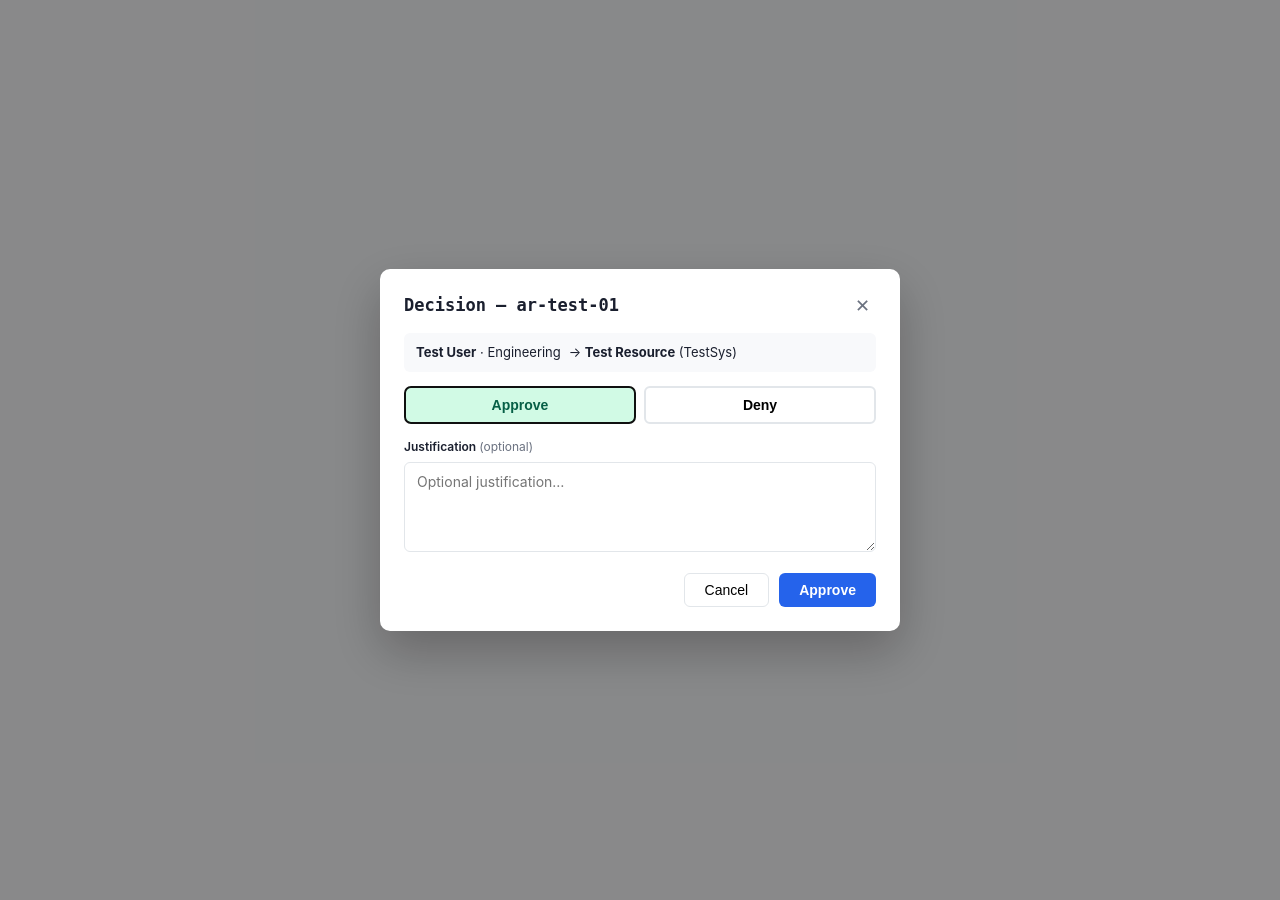
Test case: DecisionDialog — validation › blocks DENY without justification
This screenshot has width=1280, height=900.
Click the button "Deny".
click(760, 405)  # box 644,386 -> 876,424
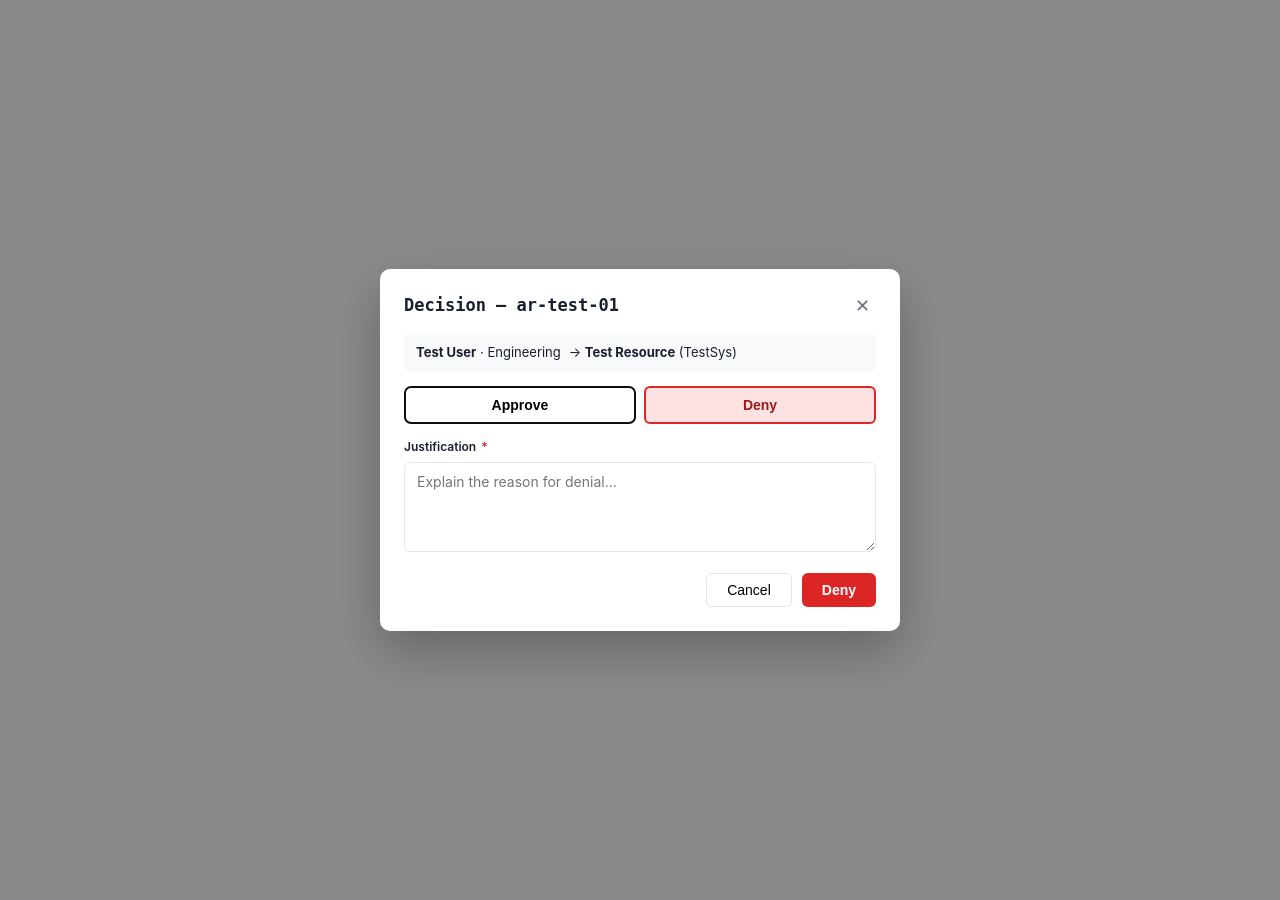
Submit the form, box 404,386 -> 876,607
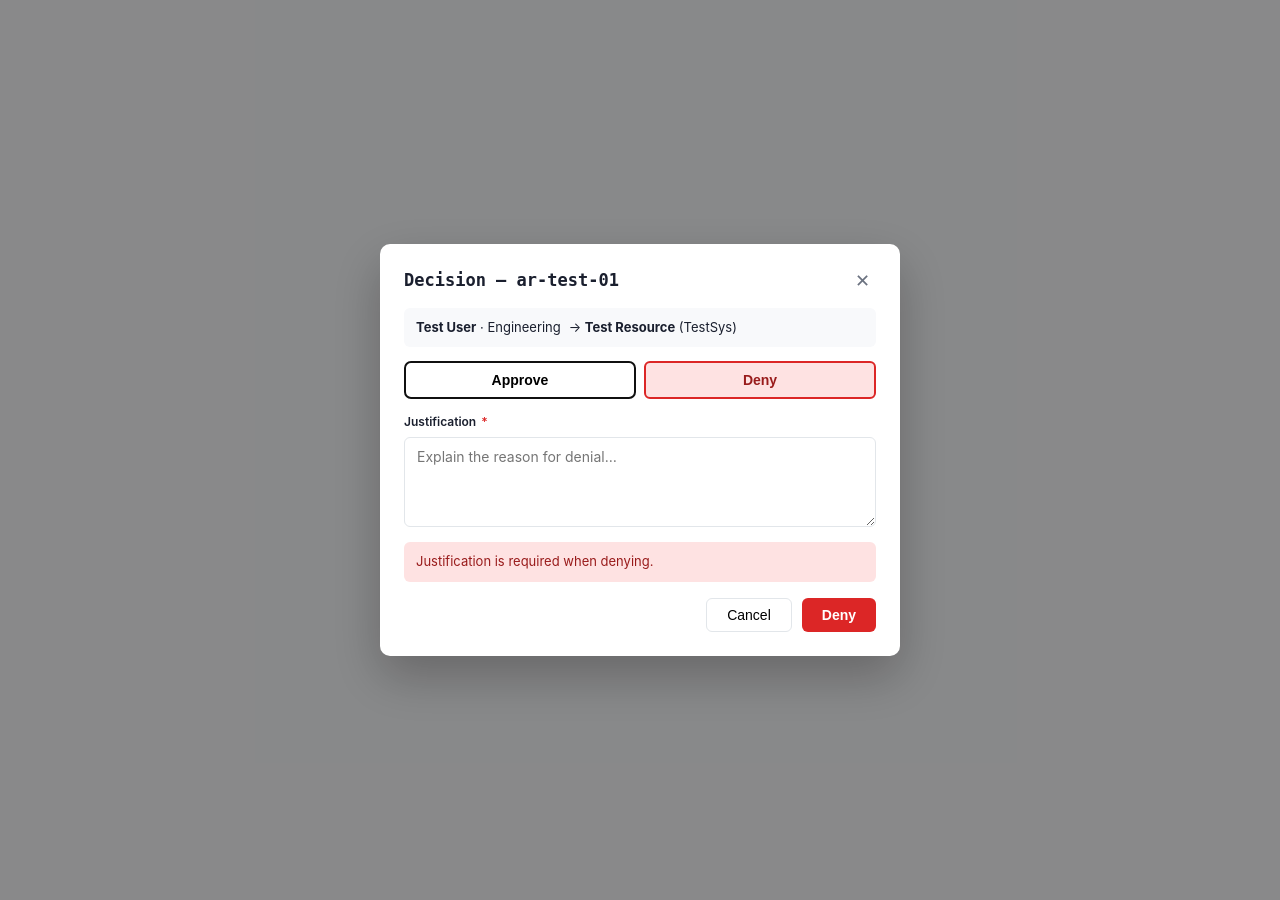
expect the message shows "Justification is required when denying": met, box 416,553 -> 653,569
